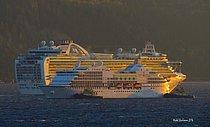Ship: (15, 39, 195, 105)
